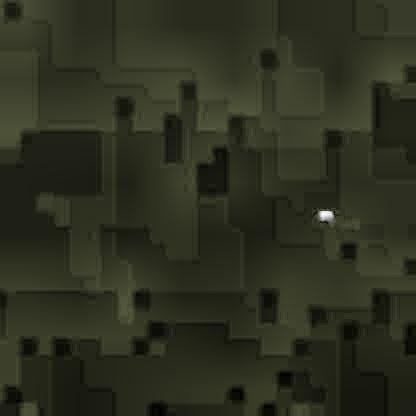golfball: (316, 207, 333, 222)
